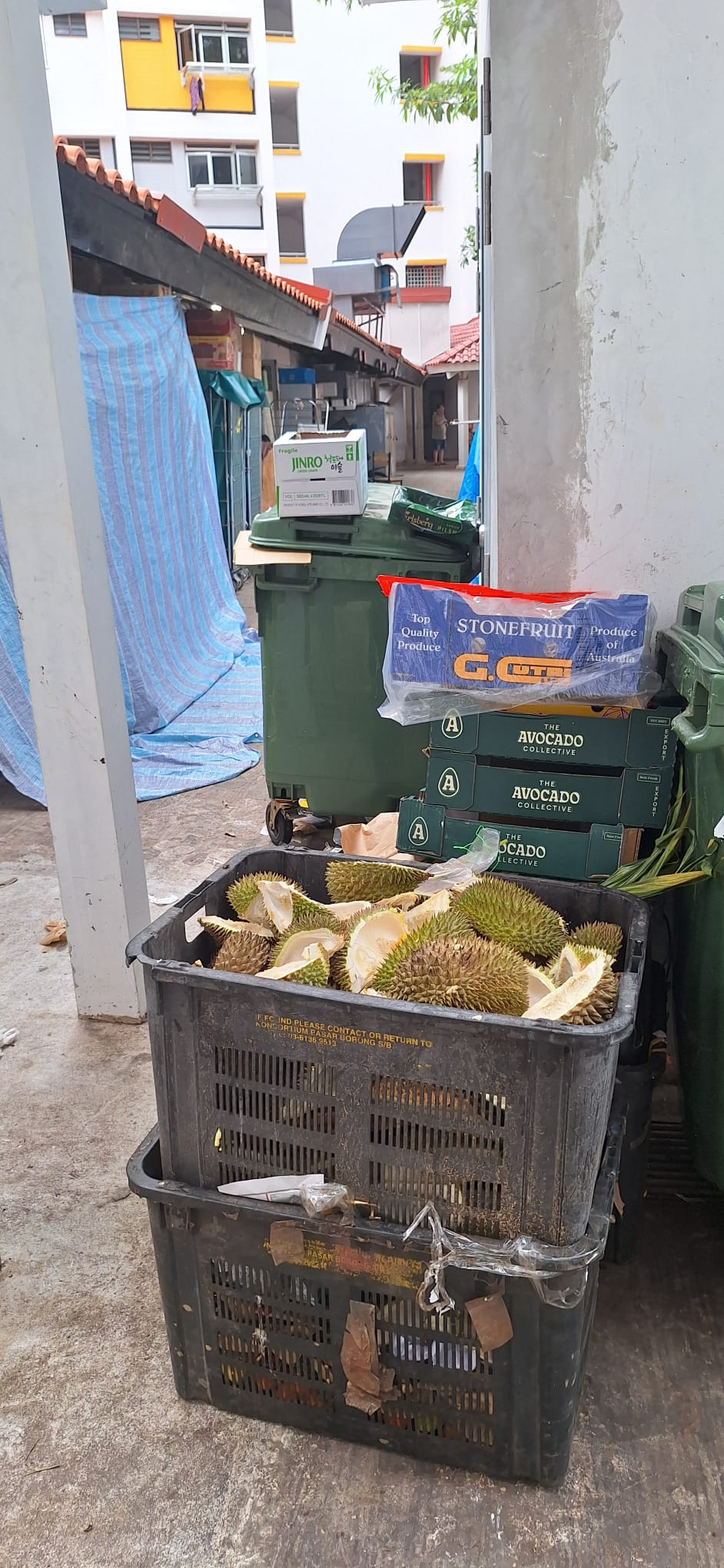bin_full: (247, 434, 480, 843), (248, 430, 480, 821)
bulk_waste: (128, 849, 648, 1245), (128, 1127, 598, 1487), (398, 709, 676, 880), (378, 576, 656, 726)
